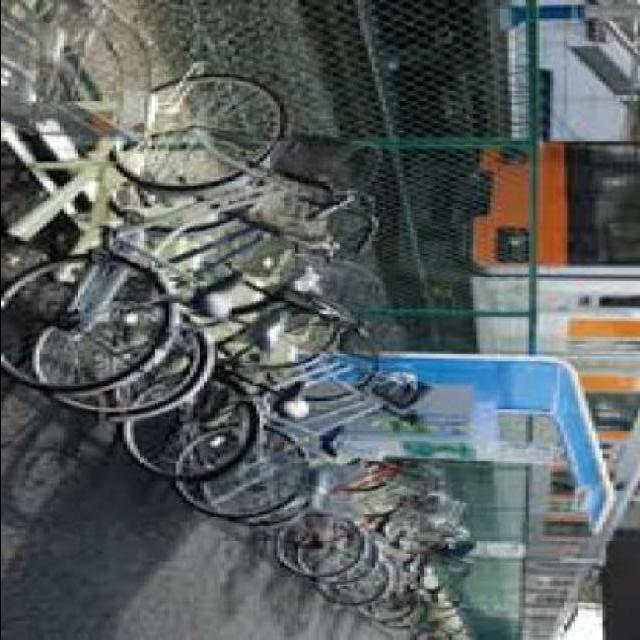bicycle: (5, 94, 382, 412)
